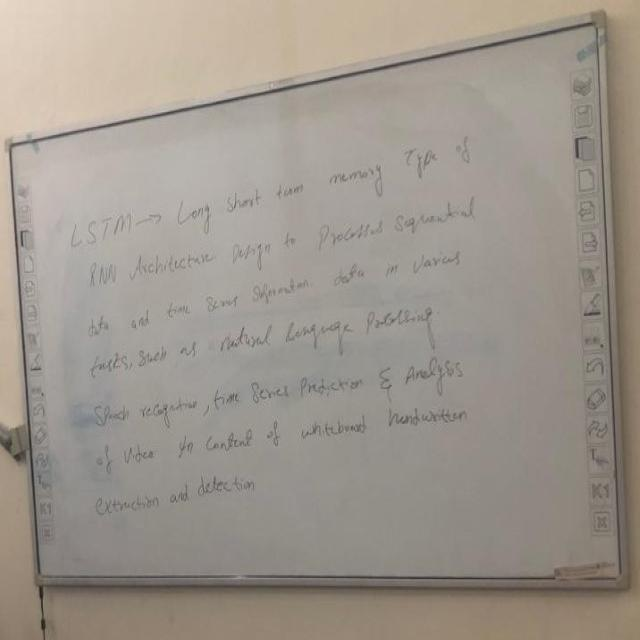White-board: (10, 13, 622, 582)
